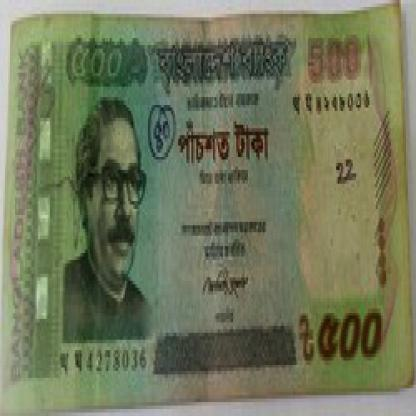500 taka: (48, 24, 160, 108), (175, 122, 298, 188)
currency: (3, 7, 414, 395)
